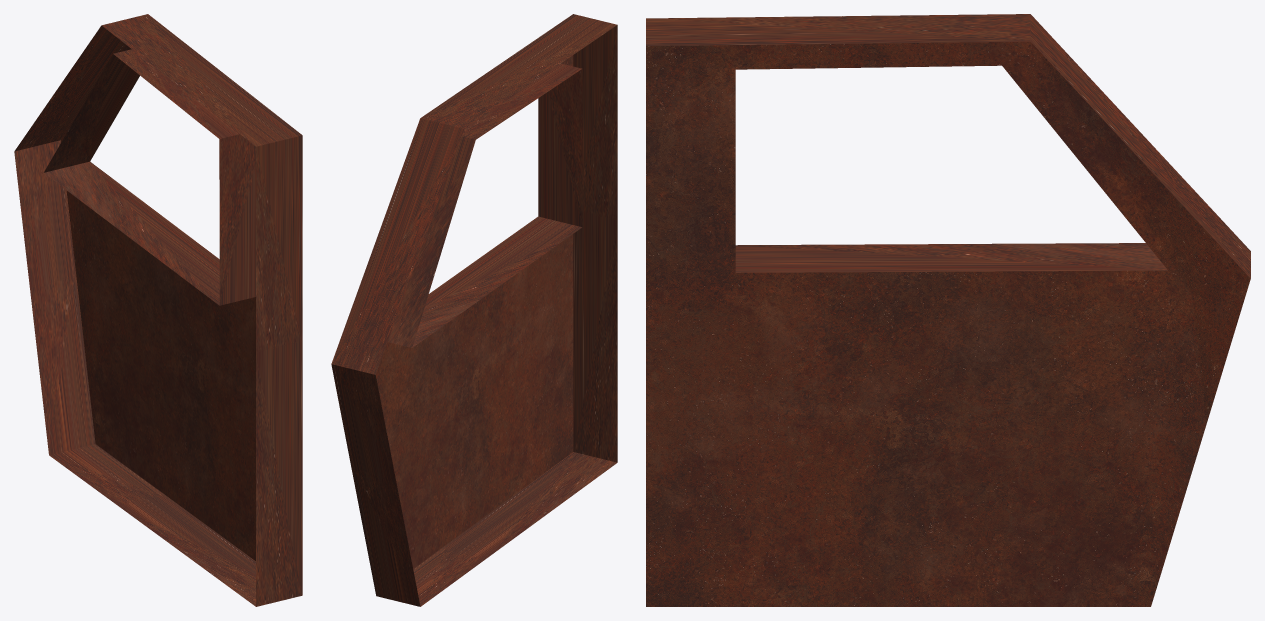
Rendered from armadura izq_der.glb.
3 renders of one model, left to right at view 1: azimuth 30°, elevation 25°; view 2: azimuth 150°, elevation 25°; view 3: azimuth 270°, elevation 25°, orthographic. The views are drawn at different scales.
Parts seen in each view (by area): view 1: Cube.001; view 2: Cube.001; view 3: Cube.001.
Part boxes in pixels (x1,y1,x2,y2): Cube.001: [14, 14, 302, 606]; Cube.001: [331, 14, 617, 606]; Cube.001: [646, 14, 1250, 606].
Size of the model in its own units: 0.2268 by 1.91 by 1.85.
Materials: 1 (1 with a texture image).
